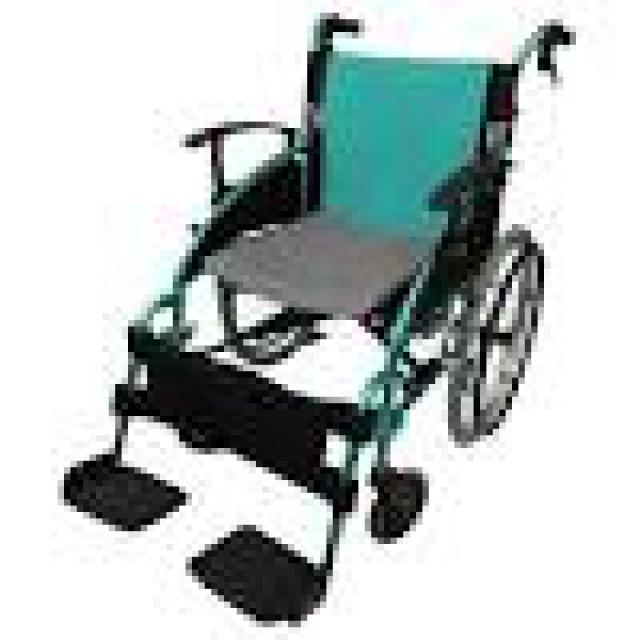wheelchair: (45, 0, 614, 627)
